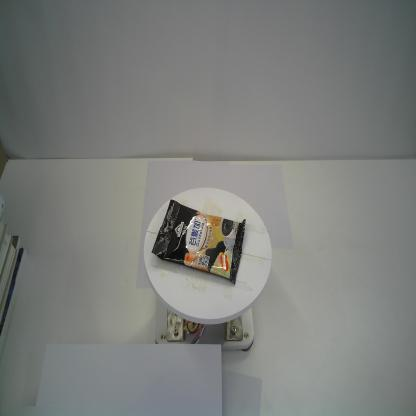Instant Drink: (151, 199, 247, 286)
